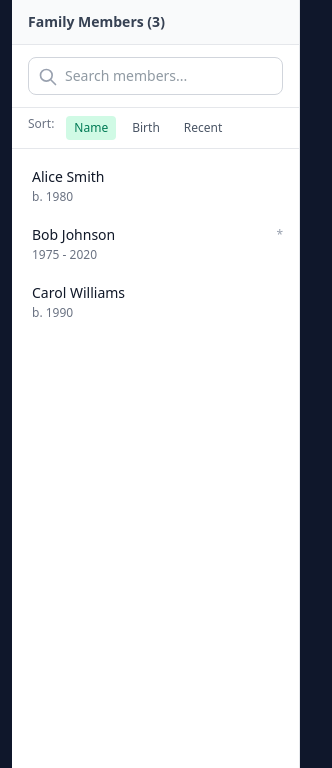
MemberListSidebar › Search › should filter members by place of birth
The image size is (332, 768).
Type "Boston" into the field with placeholder "Search members...".
click(156, 76); type("Boston")  # box [28, 57, 283, 95]
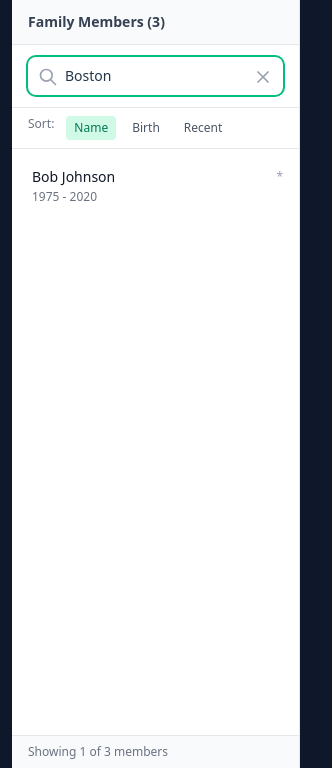
Expected: the text "Bob Johnson" is shown, [32, 167, 115, 187]
Expected: the button "Alice Smith" is gone
Expected: the button "Carol Williams" is gone
